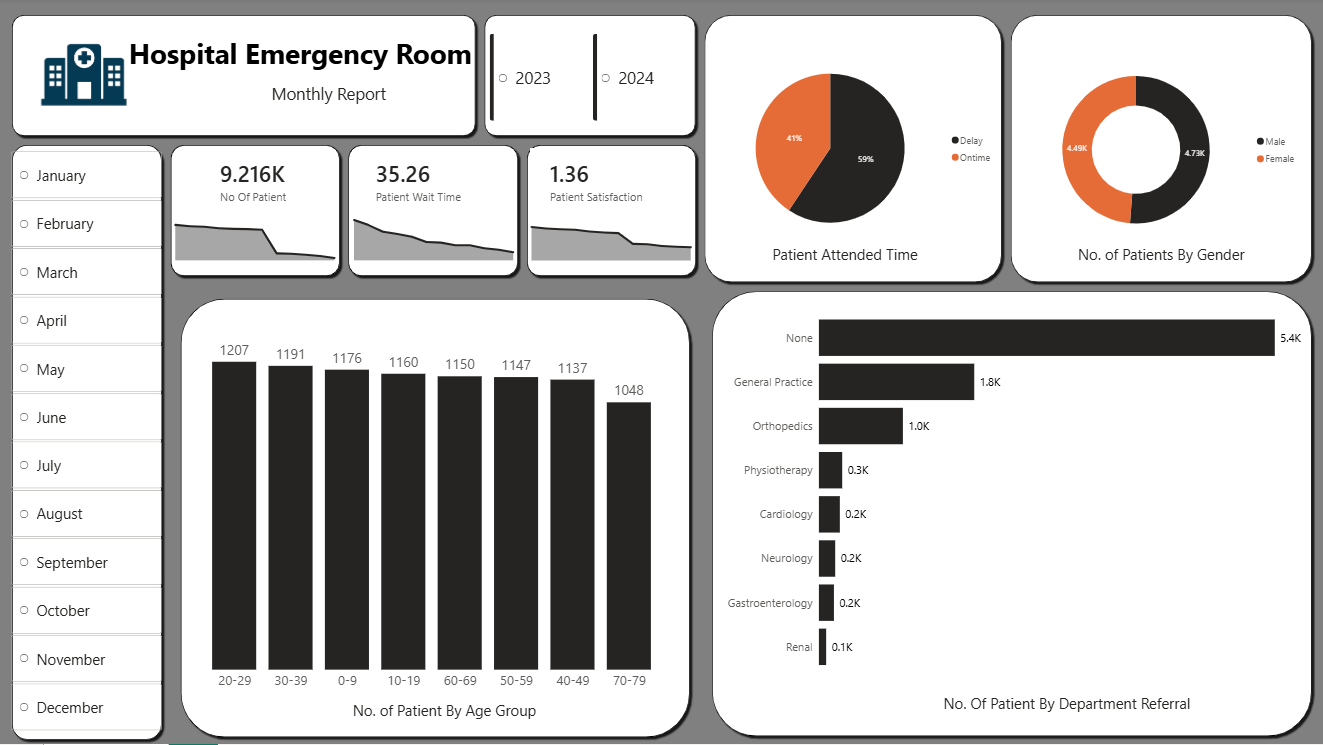

This screenshot's page, from the dashboard's own definition file:
{"tool":"powerbi","page":{"name":"Dashboard","canvas":[1920,1080],"ordinal":0},"visuals":[{"type":"shape","box":[10.9,18.1,684.1,188.2],"z":0},{"type":"textbox","box":[257,112.2,437.9,70.6],"z":1000},{"type":"image","box":[0,18.1,240.7,188.2],"z":2000},{"type":"shape","box":[694.9,18.1,318.5,188.2],"z":3000},{"type":"shape","box":[10.9,206.3,229.8,874.1],"z":4000},{"type":"shape","box":[1013.4,18.1,443.4,399.9],"z":5000},{"type":"shape","box":[1456.8,18.1,448.8,399.9],"z":6000},{"type":"shape","box":[240,206,257.6,202.8],"z":7000},{"type":"shape","box":[497.6,207.2,258.7,202.8],"z":8000},{"type":"shape","box":[756.4,207.2,257.6,202.8],"z":9000},{"type":"cardVisual","fields":{"Data":["Count(Hospital Emergency Room Data.Patient Id)"]},"box":[289,217.6,160.4,95.6],"z":10000},{"type":"cardVisual","fields":{"Data":["Avg(Hospital Emergency Room Data.Patient Waittime)"]},"box":[514.3,217.6,189,95.6],"z":11000},{"type":"cardVisual","fields":{"Data":["Avg(Hospital Emergency Room Data.Patient Satisfaction Score)"]},"box":[767,217.6,214.3,95.6],"z":12000},{"type":"areaChart","fields":{"Category":["Calender.Month Name"],"Y":["CountNonNull(Hospital Emergency Room Data.Patient Id)"]},"box":[240.7,301.1,257.1,84.6],"z":13000},{"type":"areaChart","fields":{"Category":["Calender.Month Name"],"Y":["Avg(Hospital Emergency Room Data.Patient Waittime)"]},"box":[498.9,301.1,257.1,84.6],"z":14000},{"type":"areaChart","fields":{"Category":["Calender.Month Name"],"Y":["Sum(Hospital Emergency Room Data.Patient Satisfaction Score)"]},"box":[756,301.1,257.1,85.7],"z":15000},{"type":"advancedSlicerVisual","fields":{"Values":["Calender.Month Name"]},"box":[10.9,217.2,229.8,859.6],"z":16000},{"type":"advancedSlicerVisual","fields":{"Values":["Calender.Year"]},"box":[703.3,46.2,301.1,136.3],"z":17000},{"type":"pieChart","fields":{"Y":["CountNonNull(Hospital Emergency Room Data.Patient Id)"],"Category":["Hospital Emergency Room Data.Patient Wait Time Rēport"]},"box":[1022,25.3,425.3,384.6],"z":18000},{"type":"textbox","box":[1094.5,350.5,257.1,44],"z":19000},{"type":"donutChart","fields":{"Y":["CountNonNull(Hospital Emergency Room Data.Patient Id)"],"Category":["Hospital Emergency Room Data.Patient Gender"]},"box":[1465.9,25.3,423,389],"z":20000},{"type":"textbox","box":[1522,350.5,318.7,45.1],"z":21000},{"type":"shape","box":[256,428,750,648],"z":22000},{"type":"shape","box":[1024.1,418.5,881.5,657.4],"z":23000},{"type":"columnChart","fields":{"Category":["Hospital Emergency Room Data.Patient Age Group"],"Y":["Count(Hospital Emergency Room Data.Patient Id)"]},"box":[270,442,712,570],"z":24000},{"type":"textbox","box":[489,1011,309.8,46.3],"z":25000},{"type":"clusteredBarChart","fields":{"Y":["CountNonNull(Hospital Emergency Room Data.Patient Id)"],"Category":["Hospital Emergency Room Data.Department Referral"]},"box":[1038.9,427.8,850,570.4],"z":26000},{"type":"textbox","box":[1278,1000,534.1,57.3],"z":27000}]}

Visuals, with their boxes in screenshot pixels (x1, y1, x2, y2), scaled from the page's 1920x1080 canvas onto the 1323x745 screenshot:
shape: [x1=8, y1=12, x2=479, y2=142]
textbox: [x1=177, y1=77, x2=479, y2=126]
image: [x1=0, y1=12, x2=166, y2=142]
shape: [x1=479, y1=12, x2=698, y2=142]
shape: [x1=8, y1=142, x2=166, y2=744]
shape: [x1=698, y1=12, x2=1004, y2=288]
shape: [x1=1004, y1=12, x2=1313, y2=288]
shape: [x1=165, y1=142, x2=343, y2=282]
shape: [x1=343, y1=143, x2=521, y2=283]
shape: [x1=521, y1=143, x2=699, y2=283]
cardVisual - Count(Hospital Emergency Room Data.Patient Id): [x1=199, y1=150, x2=310, y2=216]
cardVisual - Avg(Hospital Emergency Room Data.Patient Waittime): [x1=354, y1=150, x2=485, y2=216]
cardVisual - Avg(Hospital Emergency Room Data.Patient Satisfaction Score): [x1=529, y1=150, x2=676, y2=216]
areaChart - Calender.Month Name x CountNonNull(Hospital Emergency Room Data.Patient Id): [x1=166, y1=208, x2=343, y2=266]
areaChart - Calender.Month Name x Avg(Hospital Emergency Room Data.Patient Waittime): [x1=344, y1=208, x2=521, y2=266]
areaChart - Calender.Month Name x Sum(Hospital Emergency Room Data.Patient Satisfaction Score): [x1=521, y1=208, x2=698, y2=267]
advancedSlicerVisual - Calender.Month Name: [x1=8, y1=150, x2=166, y2=743]
advancedSlicerVisual - Calender.Year: [x1=485, y1=32, x2=692, y2=126]
pieChart - CountNonNull(Hospital Emergency Room Data.Patient Id) x Hospital Emergency Room Data.Patient Wait Time Rēport: [x1=704, y1=17, x2=997, y2=283]
textbox: [x1=754, y1=242, x2=931, y2=272]
donutChart - CountNonNull(Hospital Emergency Room Data.Patient Id) x Hospital Emergency Room Data.Patient Gender: [x1=1010, y1=17, x2=1302, y2=286]
textbox: [x1=1049, y1=242, x2=1268, y2=273]
shape: [x1=176, y1=295, x2=693, y2=742]
shape: [x1=706, y1=289, x2=1313, y2=742]
columnChart - Hospital Emergency Room Data.Patient Age Group x Count(Hospital Emergency Room Data.Patient Id): [x1=186, y1=305, x2=677, y2=698]
textbox: [x1=337, y1=697, x2=550, y2=729]
clusteredBarChart - CountNonNull(Hospital Emergency Room Data.Patient Id) x Hospital Emergency Room Data.Department Referral: [x1=716, y1=295, x2=1302, y2=689]
textbox: [x1=881, y1=690, x2=1249, y2=729]
